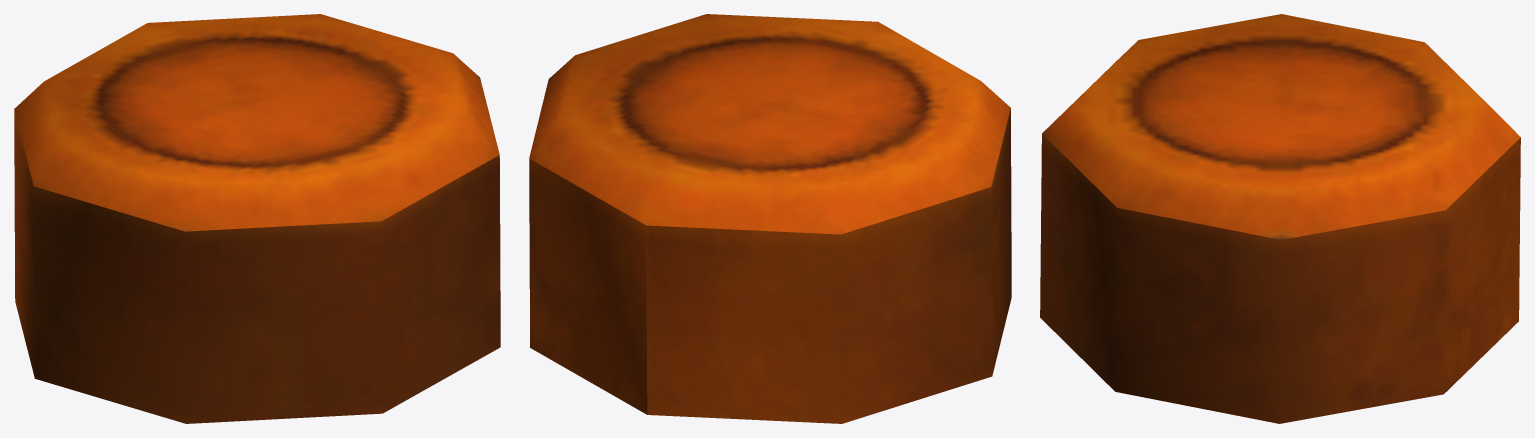
Rendered from control_board_pplant_button.dae.
3 views of the same model, side by side, from view 1: azimuth 30°, elevation 25°; view 2: azimuth 150°, elevation 25°; view 3: azimuth 270°, elevation 25° (orthographic). The views are drawn at different scales.
Visible parts, largest first — view 1: button; view 2: button; view 3: button.
Boxes of the visible parts, x1,y1,x2,y2 form: button: [14, 14, 500, 423]; button: [529, 14, 1011, 423]; button: [1040, 14, 1520, 423].
Size of the model in its own units: 0.0595 by 0.0288 by 0.0578.
